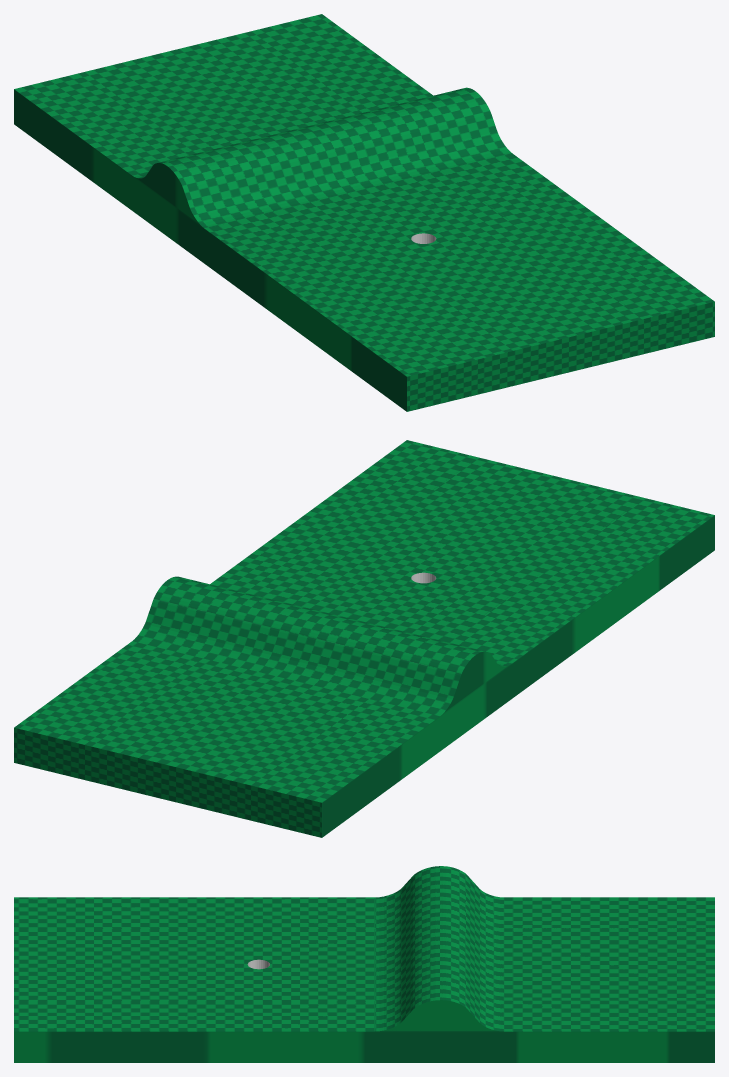
File: entrancehole.fbx
The picture shows the model from 3 angles, top to bottom: view 1: azimuth 30°, elevation 25°; view 2: azimuth 150°, elevation 25°; view 3: azimuth 270°, elevation 25°; orthographic projection. The views are drawn at different scales.
Visible parts, largest first — view 1: Cube.004; view 2: Cube.004; view 3: Cube.004.
Part boxes in pixels (<box>): Cube.004: <box>14,14,714,411</box>; Cube.004: <box>14,440,714,837</box>; Cube.004: <box>14,866,714,1062</box>.
Bounding box in the file's own units: 2875 × 627 × 6355.
